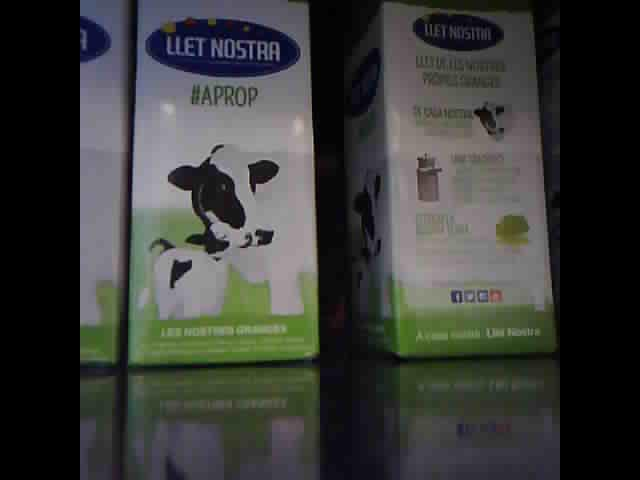leche: (345, 6, 554, 356), (127, 4, 314, 371), (80, 3, 131, 363)
